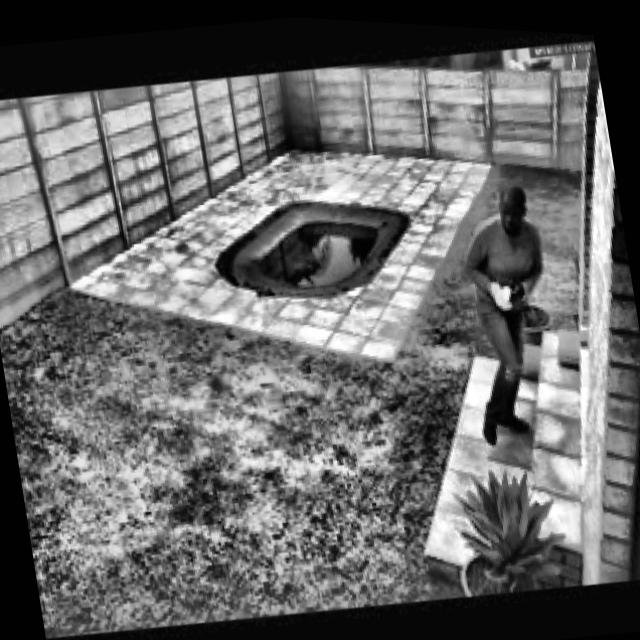burglary: (439, 157, 640, 455)
